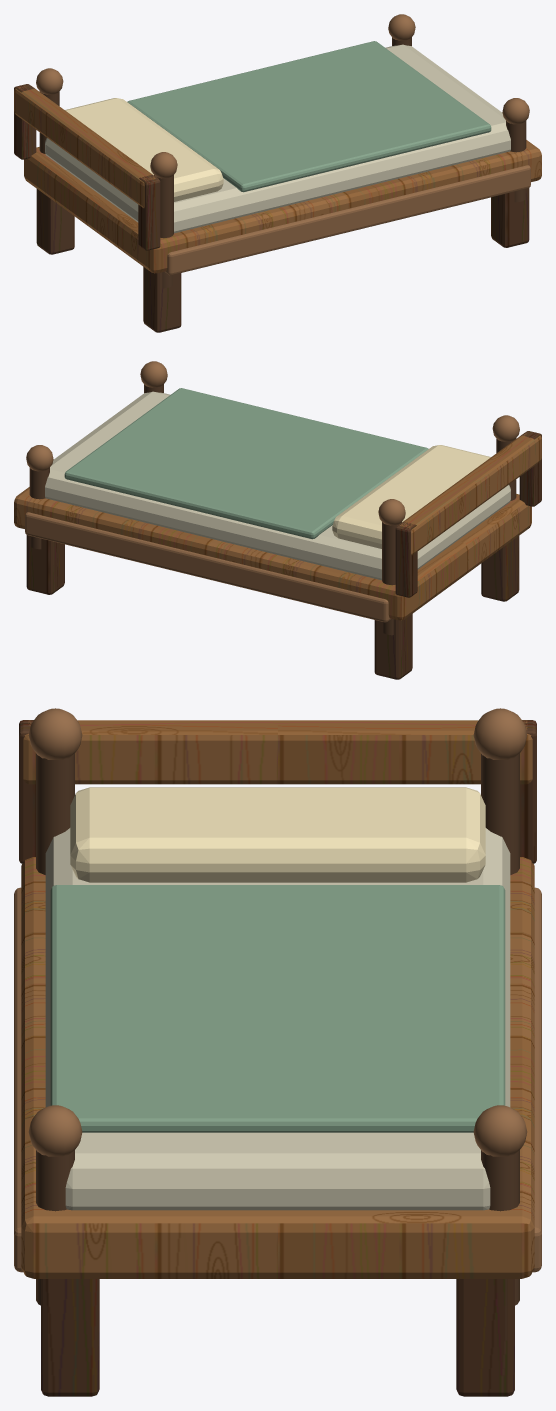
Rendered from SM_HH_Q3_TreatmentBedLarge.fbx.
The picture shows the model from 3 angles, top to bottom: view 1: azimuth 30°, elevation 25°; view 2: azimuth 150°, elevation 25°; view 3: azimuth 270°, elevation 25°; orthographic projection. The views are drawn at different scales.
Visible parts, largest first — view 1: HH_Q3_TreatmentBedLarge; view 2: HH_Q3_TreatmentBedLarge; view 3: HH_Q3_TreatmentBedLarge.
Part boxes in pixels (x1=…): HH_Q3_TreatmentBedLarge: x1=14, y1=14, x2=541, y2=332; HH_Q3_TreatmentBedLarge: x1=14, y1=361, x2=541, y2=679; HH_Q3_TreatmentBedLarge: x1=14, y1=708, x2=541, y2=1396.
Size of the model in its own units: 1.08 by 1.84 by 0.775.
